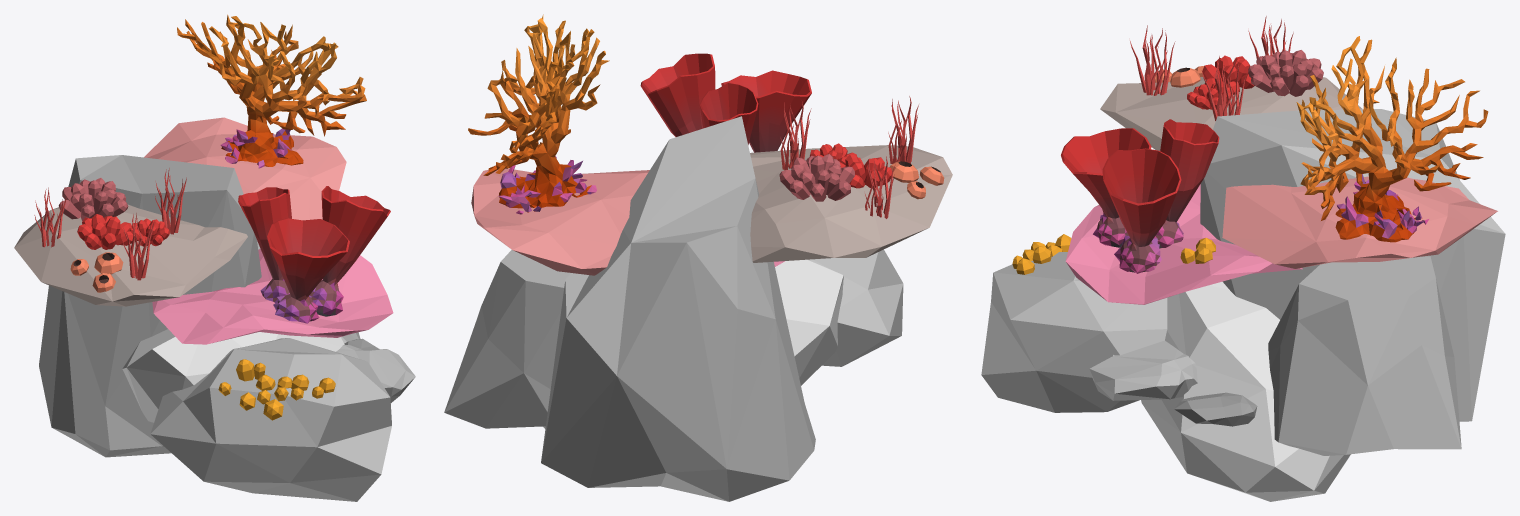
Rendered from CoralReef4.glb.
3 renders of one model, left to right at view 1: azimuth 30°, elevation 25°; view 2: azimuth 150°, elevation 25°; view 3: azimuth 270°, elevation 25°, orthographic. The views are drawn at different scales.
Visible parts, largest first — view 1: Coral_reef_011; view 2: Coral_reef_011; view 3: Coral_reef_011.
Part boxes in pixels (box(x1,y1,x2,y2)): Coral_reef_011: box(14, 14, 415, 501); Coral_reef_011: box(444, 14, 952, 501); Coral_reef_011: box(981, 16, 1505, 501).
Size of what is drawn, in the model's own units: 3.55 by 3.69 by 4.05.
1 material, 1 textured.
